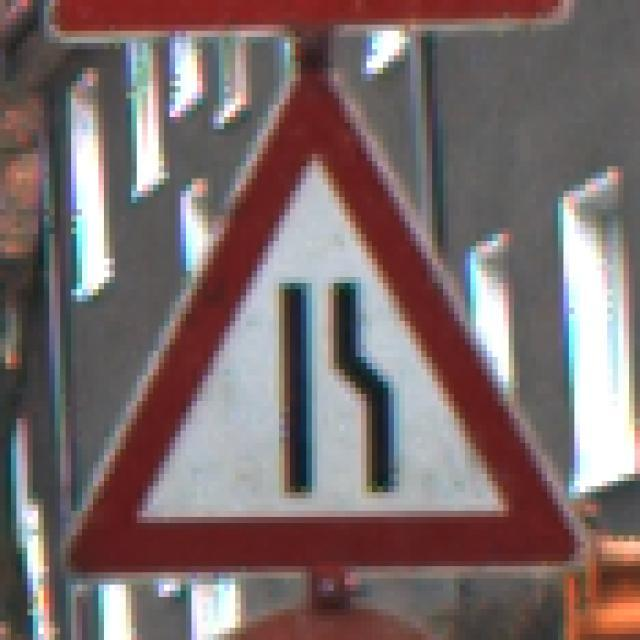narrow road ahead: (43, 53, 595, 589)
